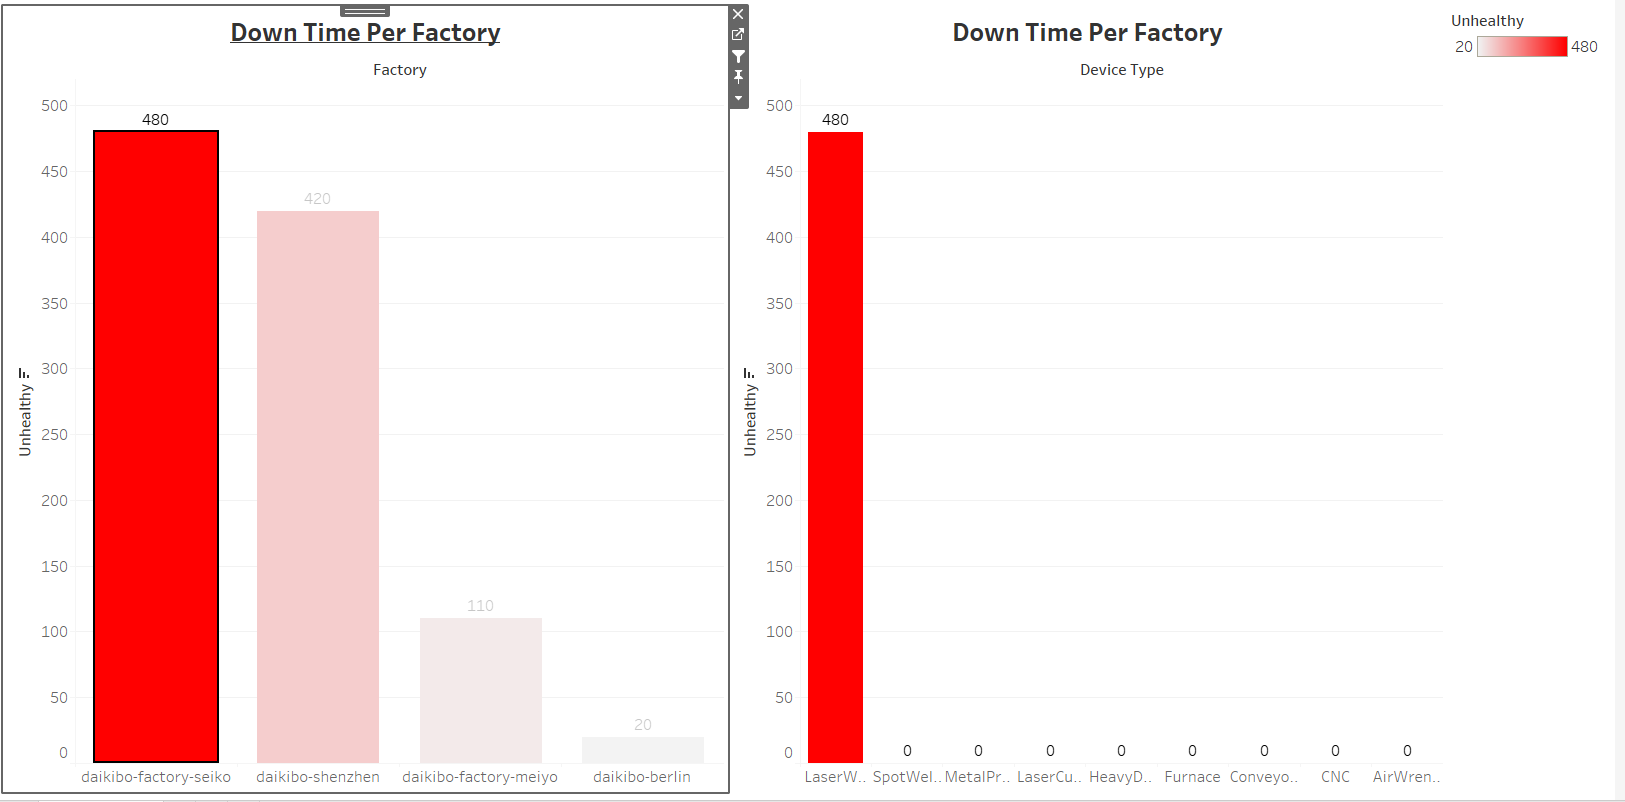

The page's visual inventory and layout, read from the dashboard file:
{"tool":"tableau","page":{"name":"Dashboard 1","canvas":[1000,1000],"units":"permille","ordinal":0},"visuals":[{"type":"worksheet","title":"Sheet 1","mark":"Automatic","rows":["Calculation_4700632179103641600"],"cols":["factory"],"box":[4.9,10,447.5,980]},{"type":"worksheet","title":"Sheet 2","mark":"Automatic","rows":["Calculation_4700632179103641600"],"cols":["deviceType"],"box":[452.5,10,443.7,980]},{"type":"legend","title":"Sheet 1","param":"[federated.1ak3viq1xyc6uc1bpm6ze0ces9ux].[sum:Calculation_4700632179103641600:qk","box":[896.3,10,98.8,91]}]}

Visuals, with their boxes on the dashboard's canvas, which has no fixed pixel size, in thousandths of its width and height (x1, y1, x2, y2). These are canvas units, not pixel positions in the 1625x802 screenshot, which may show the page scaled, cropped or inside an application window:
"Sheet 1" worksheet: 5/10/452/990
"Sheet 2" worksheet: 452/10/896/990
"Sheet 1" legend: 896/10/995/101
